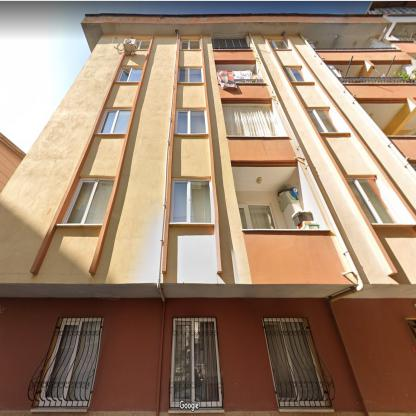window: (262, 318, 326, 405), (39, 318, 102, 406), (170, 318, 221, 408), (346, 178, 402, 223), (61, 178, 114, 225), (170, 179, 214, 223), (238, 203, 276, 228), (307, 108, 344, 132), (175, 110, 208, 133), (98, 110, 131, 132), (283, 68, 310, 82), (212, 38, 248, 48), (178, 68, 203, 82), (117, 68, 142, 81), (180, 40, 200, 49), (269, 40, 288, 48), (136, 40, 150, 49)
